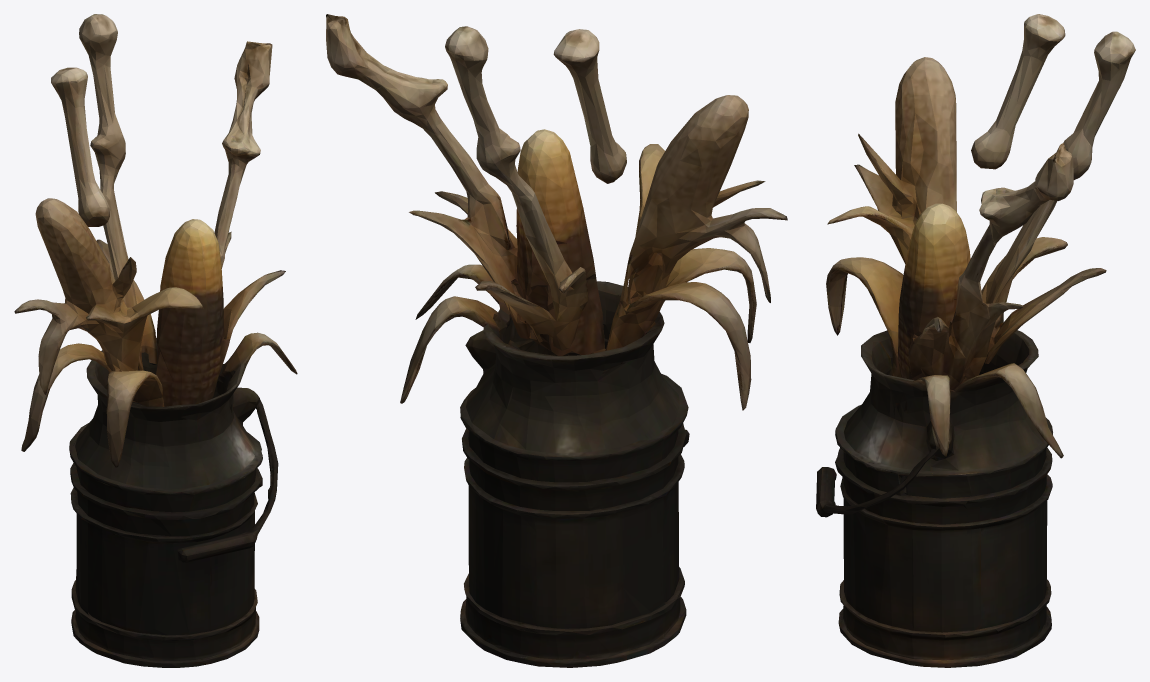
File: milk_churn_bones_corn.glb
3 views of the same model, side by side, from view 1: azimuth 30°, elevation 25°; view 2: azimuth 150°, elevation 25°; view 3: azimuth 270°, elevation 25° (orthographic). The views are drawn at different scales.
Parts seen in each view (by area): view 1: geometry_0; view 2: geometry_0; view 3: geometry_0.
Part boxes in pixels (x1,y1,x2,y2): geometry_0: (14, 14, 297, 667); geometry_0: (326, 14, 787, 667); geometry_0: (816, 14, 1135, 667).
Bounding box in the file's own units: 0.6096 × 0.9971 × 0.4834.
Materials: 1 (1 with a texture image).
